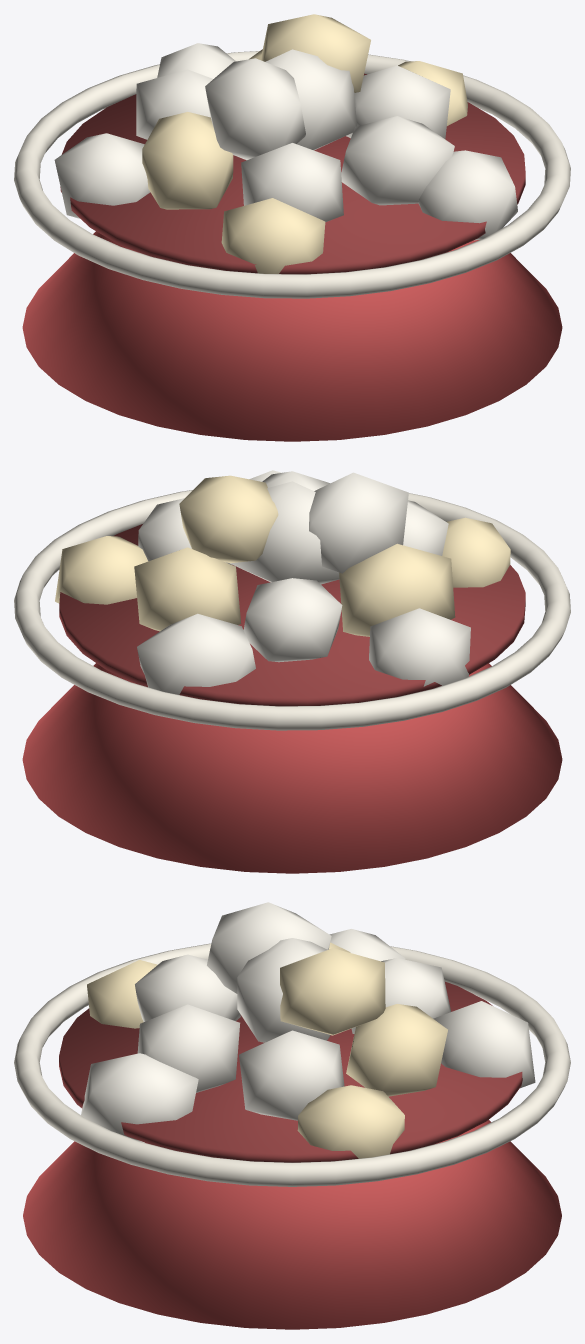
The model's file is popcorn_bowl.glb.
The picture shows the model from 3 angles, top to bottom: view 1: azimuth 30°, elevation 25°; view 2: azimuth 150°, elevation 25°; view 3: azimuth 270°, elevation 25°; orthographic projection.
Visible parts, largest first — view 1: BowlWall, BowlRim, BowlInnerDisc, Pop2, Pop8, Pop6, Pop13, Pop12, Pop7, Pop11, Pop0, Pop3 (+4 smaller); view 2: BowlWall, BowlRim, BowlInnerDisc, Pop6, Pop2, Pop10, Pop4, Pop1, Pop5, Pop11, Pop0, Pop9 (+4 smaller); view 3: BowlWall, BowlRim, BowlInnerDisc, Pop1, Pop4, Pop3, Pop13, Pop8, Pop9, Pop10, Pop2, Pop0 (+4 smaller).
Boxes of the visible parts, box(x1,y1,x2,y2) form: BowlWall: box(22, 231, 562, 441); BowlRim: box(14, 51, 570, 298); BowlInnerDisc: box(60, 73, 525, 274); Pop2: box(205, 58, 305, 160); Pop8: box(341, 116, 454, 205); Pop6: box(142, 112, 233, 209); Pop13: box(418, 150, 517, 240); Pop12: box(221, 198, 325, 273); Pop7: box(241, 143, 343, 222); Pop11: box(54, 133, 150, 218); Pop0: box(265, 49, 356, 150); Pop3: box(346, 65, 450, 138); BowlWall: box(22, 663, 562, 873); BowlRim: box(14, 490, 570, 730); BowlInnerDisc: box(59, 524, 525, 706); Pop6: box(339, 543, 455, 636); Pop2: box(309, 472, 408, 573); Pop10: box(137, 613, 255, 694); Pop4: box(134, 547, 241, 631); Pop1: box(179, 475, 278, 563); Pop5: box(243, 578, 342, 662); Pop11: box(369, 608, 470, 686); Pop0: box(229, 481, 339, 584); Pop9: box(55, 536, 148, 604); BowlWall: box(23, 1120, 561, 1329); BowlRim: box(14, 943, 570, 1186); BowlInnerDisc: box(59, 981, 522, 1162); Pop1: box(280, 948, 385, 1035); Pop4: box(346, 1004, 447, 1096); Pop3: box(239, 1030, 344, 1120); Pop13: box(81, 1053, 198, 1142); Pop8: box(137, 1004, 240, 1092); Pop9: box(297, 1085, 404, 1158); Pop10: box(433, 1001, 535, 1088); Pop2: box(207, 902, 331, 993); Pop0: box(237, 938, 330, 1042).
Size of the model in its own units: 0.692 by 0.4373 by 0.692.
